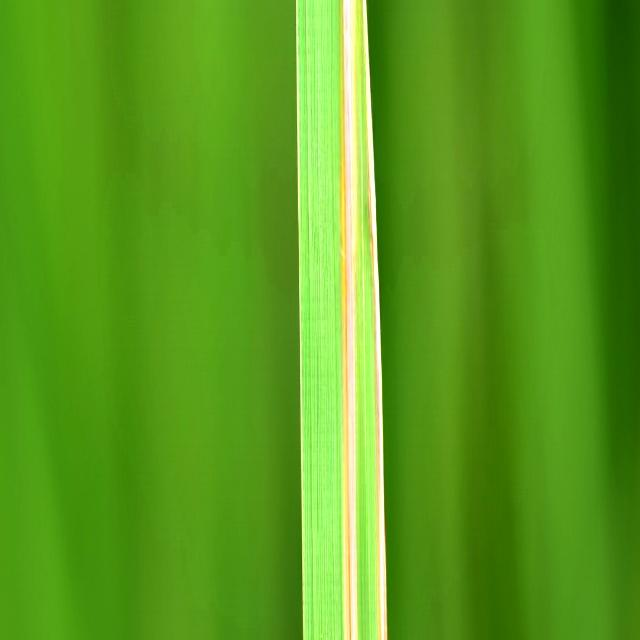BLB: (340, 0, 387, 640)
